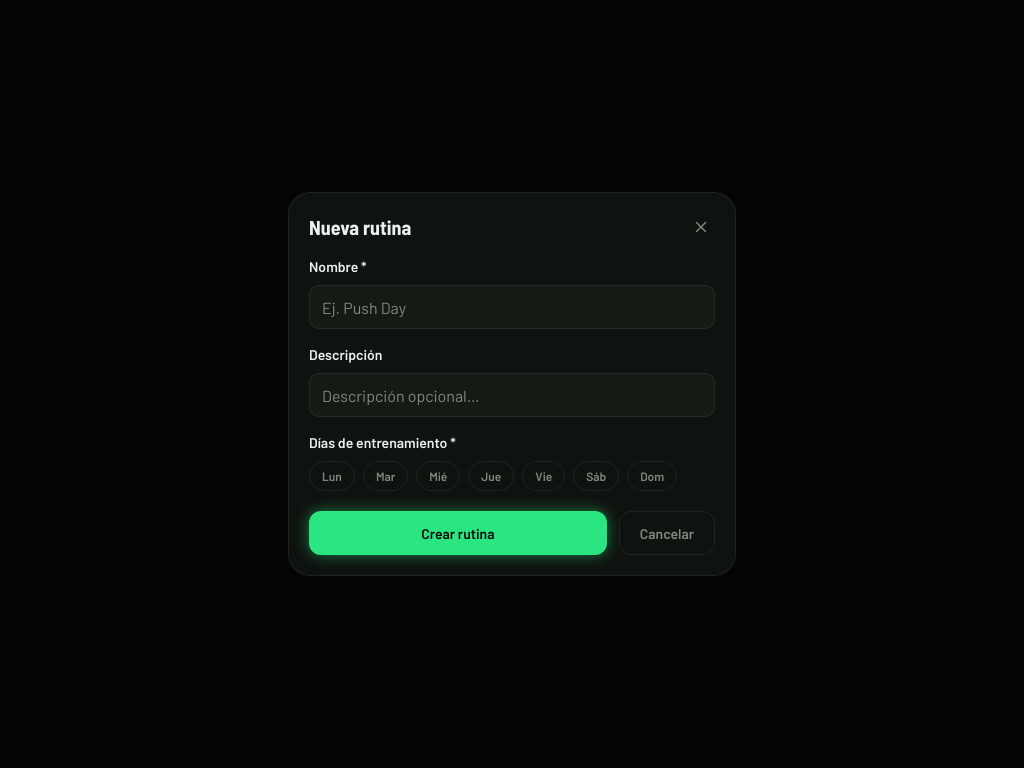
it: NewRoutineModal › shows an error message and stays open when the request fails
This screenshot has width=1024, height=768.
Type "Push Day" into the field labelled "Nombre *" at (512, 307), box [309,285,715,329]
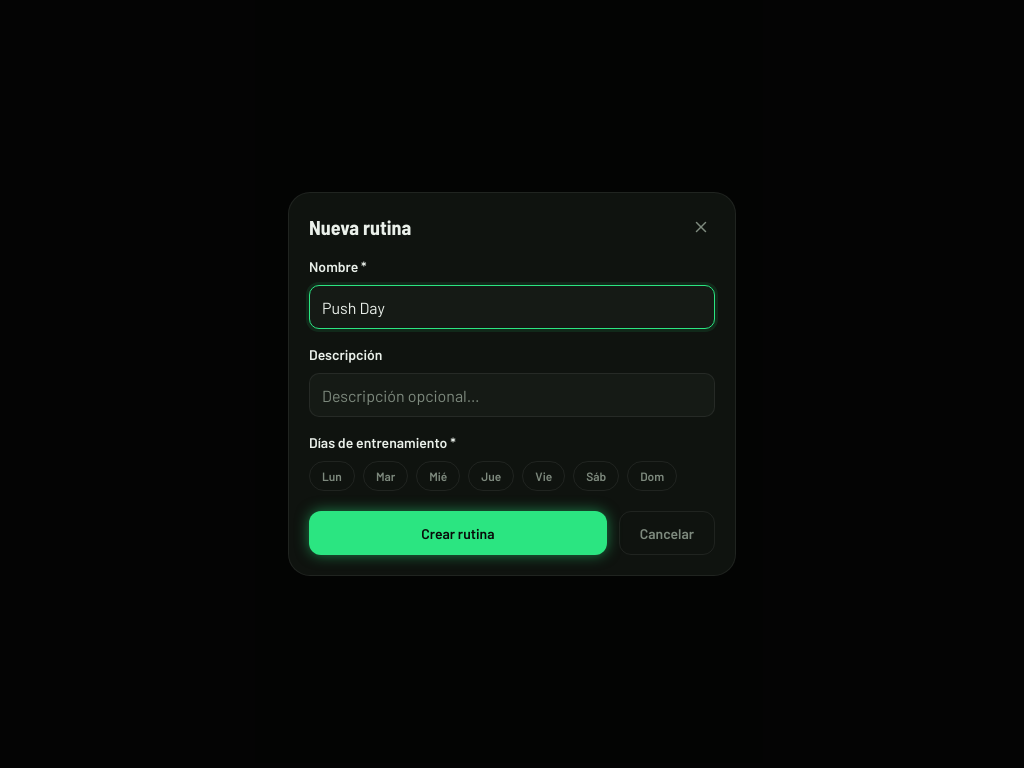
Click the button with aria-label "Lunes" at (332, 476), box [309,461,355,491]
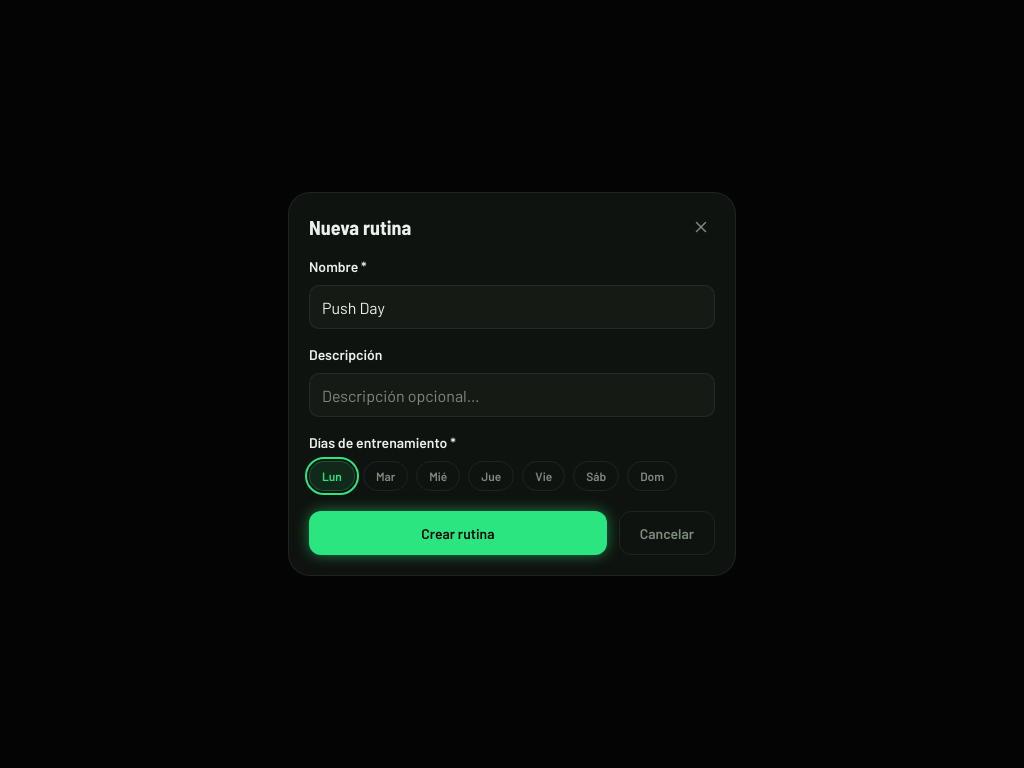
Click the button "Crear rutina" at (458, 533), box [309,511,607,555]
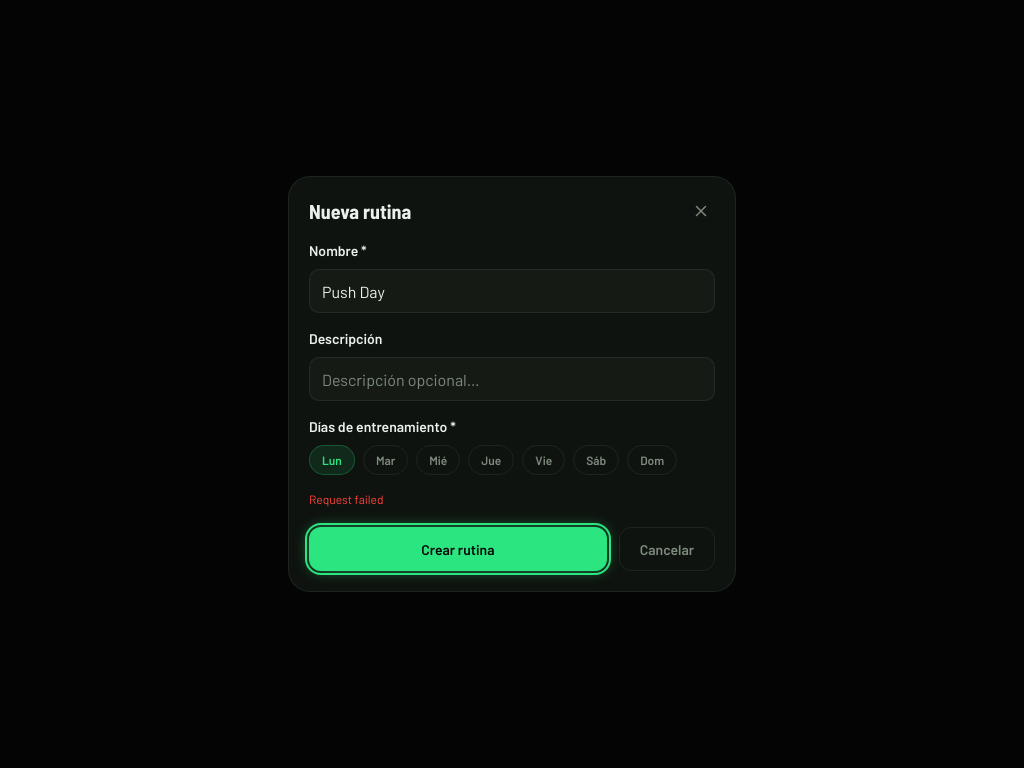
Expected: the text "Request failed" is shown, [309,492,384,506]
